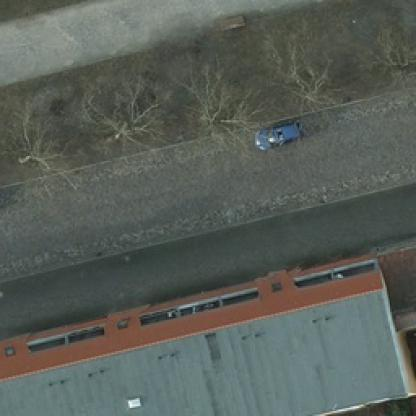car: (253, 117, 304, 148)
